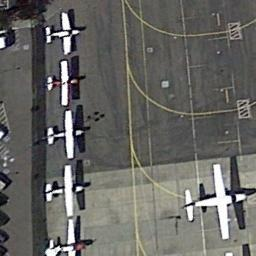Airplane: (182, 154, 255, 240), (44, 164, 90, 218), (44, 106, 88, 158), (42, 8, 84, 62), (42, 60, 88, 105)
